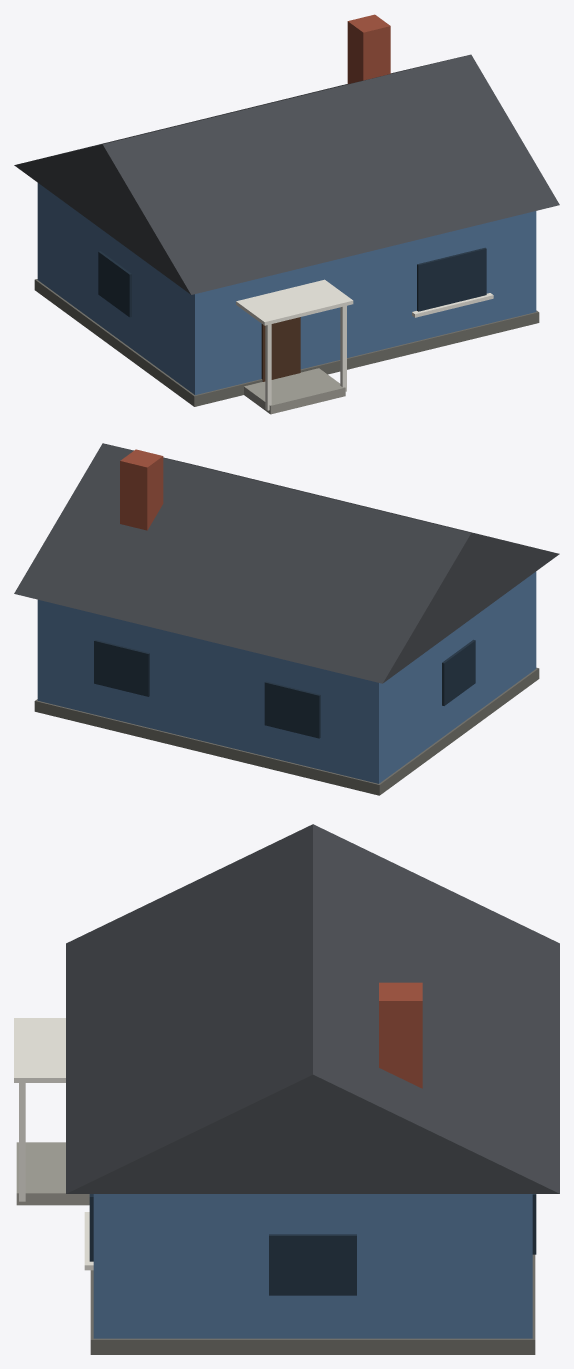
File: house_b.glb
3 renders of one model, top to bottom at view 1: azimuth 30°, elevation 25°; view 2: azimuth 150°, elevation 25°; view 3: azimuth 270°, elevation 25°, orthographic. The views are drawn at different scales.
Parts seen in each view (by area): view 1: house_b_Body; view 2: house_b_Body; view 3: house_b_Body.
Boxes of the visible parts, box(x1,y1,x2,y2) form: house_b_Body: box(14, 14, 559, 414); house_b_Body: box(14, 443, 559, 795); house_b_Body: box(14, 824, 559, 1354).
Bounding box in the file's own units: 10.8 × 6.5 × 9.95.
